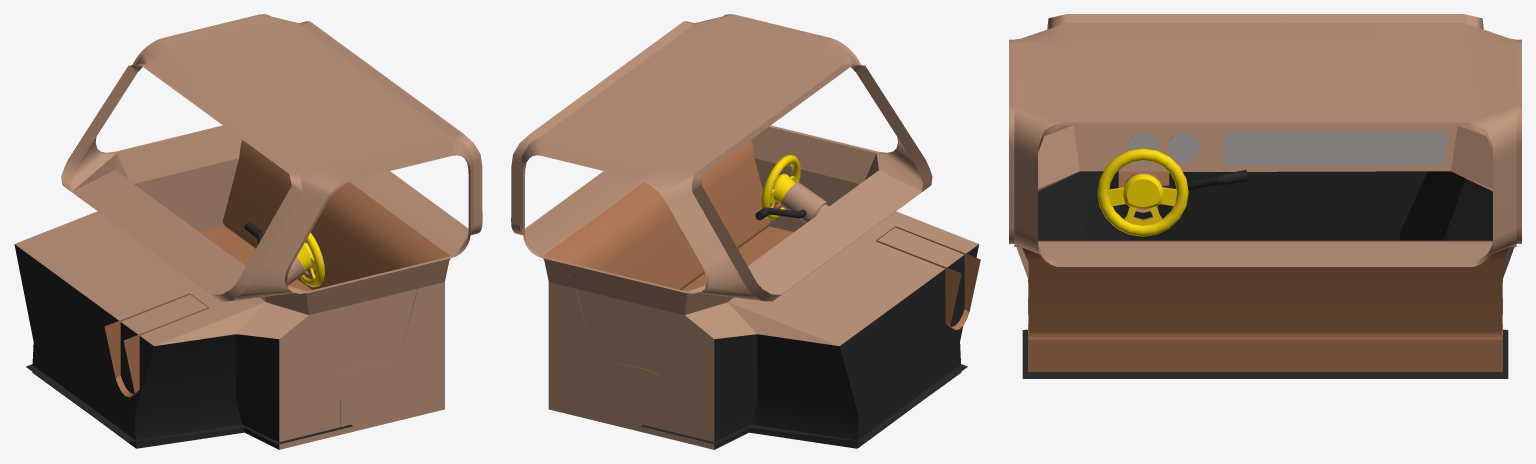
The model's file is truckInterior.fbx.
3 views of the same model, side by side, from view 1: azimuth 30°, elevation 25°; view 2: azimuth 150°, elevation 25°; view 3: azimuth 270°, elevation 25° (orthographic). The views are drawn at different scales.
Parts seen in each view (by area): view 1: truckInterior, truckSeat, truckSteeringWheel, truckFloor; view 2: truckInterior, truckSeat, truckSteeringWheel, truckFloor; view 3: truckInterior, truckSeat, truckSteeringWheel, truckFloor, gauges.
Part boxes in pixels (x1,y1,x2,y2): truckInterior: (14, 14, 482, 449); truckSeat: (199, 140, 450, 426); truckSteeringWheel: (104, 222, 324, 397); truckFloor: (26, 364, 352, 444); truckInterior: (511, 14, 979, 449); truckSeat: (543, 140, 793, 426); truckSteeringWheel: (755, 155, 980, 330); truckFloor: (640, 364, 967, 444); truckInterior: (1009, 14, 1521, 279); truckSeat: (1021, 240, 1509, 371); truckSteeringWheel: (1097, 148, 1248, 236); truckFloor: (1022, 329, 1508, 378); gauges: (1127, 132, 1199, 163).
Size of the model in its own units: 370 by 279 by 376.
